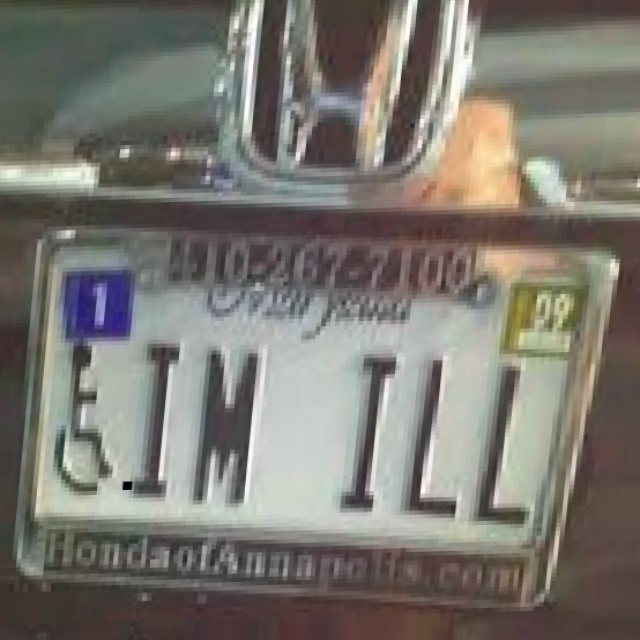ISA: (49, 341, 126, 495)
